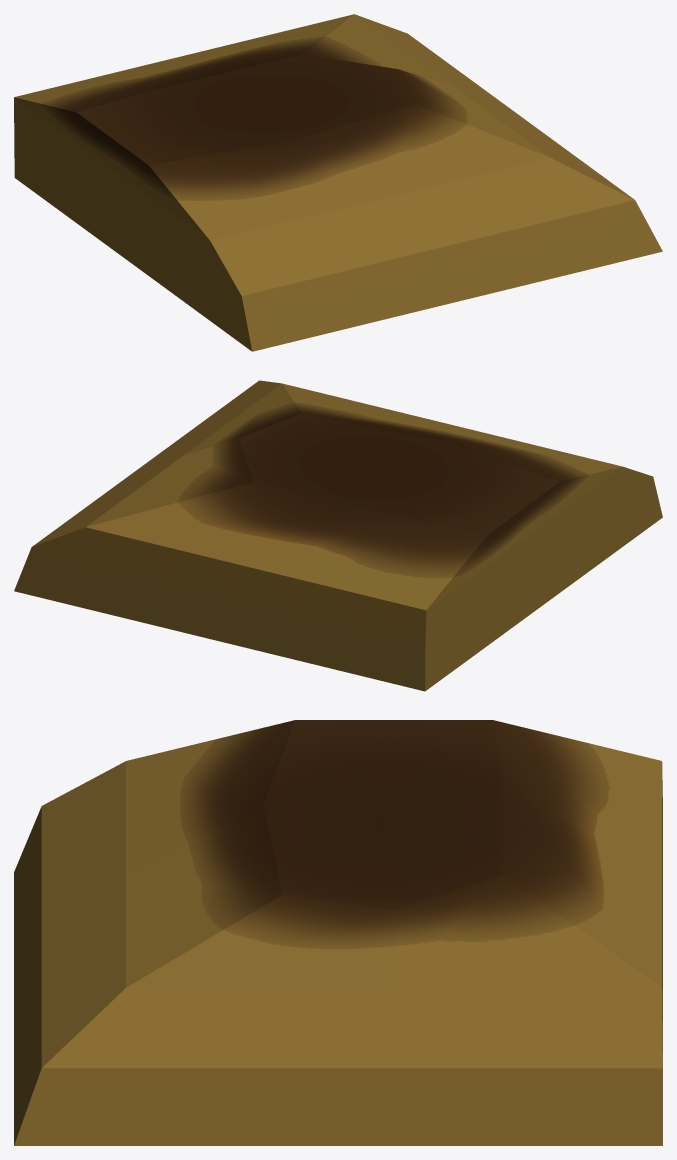
File: buried_water_bed4.fbx
The picture shows the model from 3 angles, top to bottom: view 1: azimuth 30°, elevation 25°; view 2: azimuth 150°, elevation 25°; view 3: azimuth 270°, elevation 25°; orthographic projection. The views are drawn at different scales.
Parts seen in each view (by area): view 1: Куб.027; view 2: Куб.027; view 3: Куб.027.
Boxes of the visible parts, x1,y1,x2,y2 form: Куб.027: (14, 14, 662, 351); Куб.027: (14, 380, 662, 691); Куб.027: (14, 720, 662, 1145).
Size of the model in its own units: 85 by 22.07 by 85.
